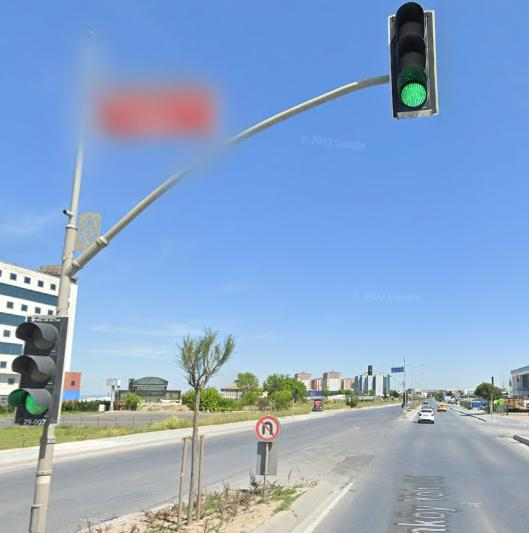greenlight: (391, 1, 433, 111), (18, 316, 57, 422)
